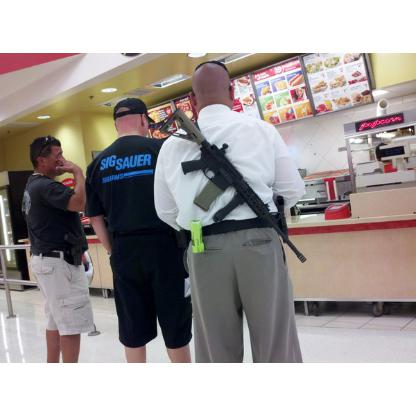gun: (158, 106, 308, 264), (63, 233, 83, 265)
